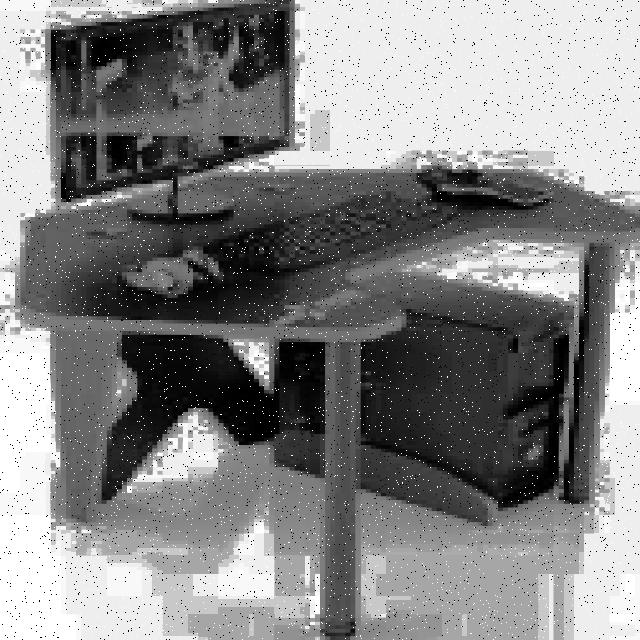table: (15, 162, 640, 636)
